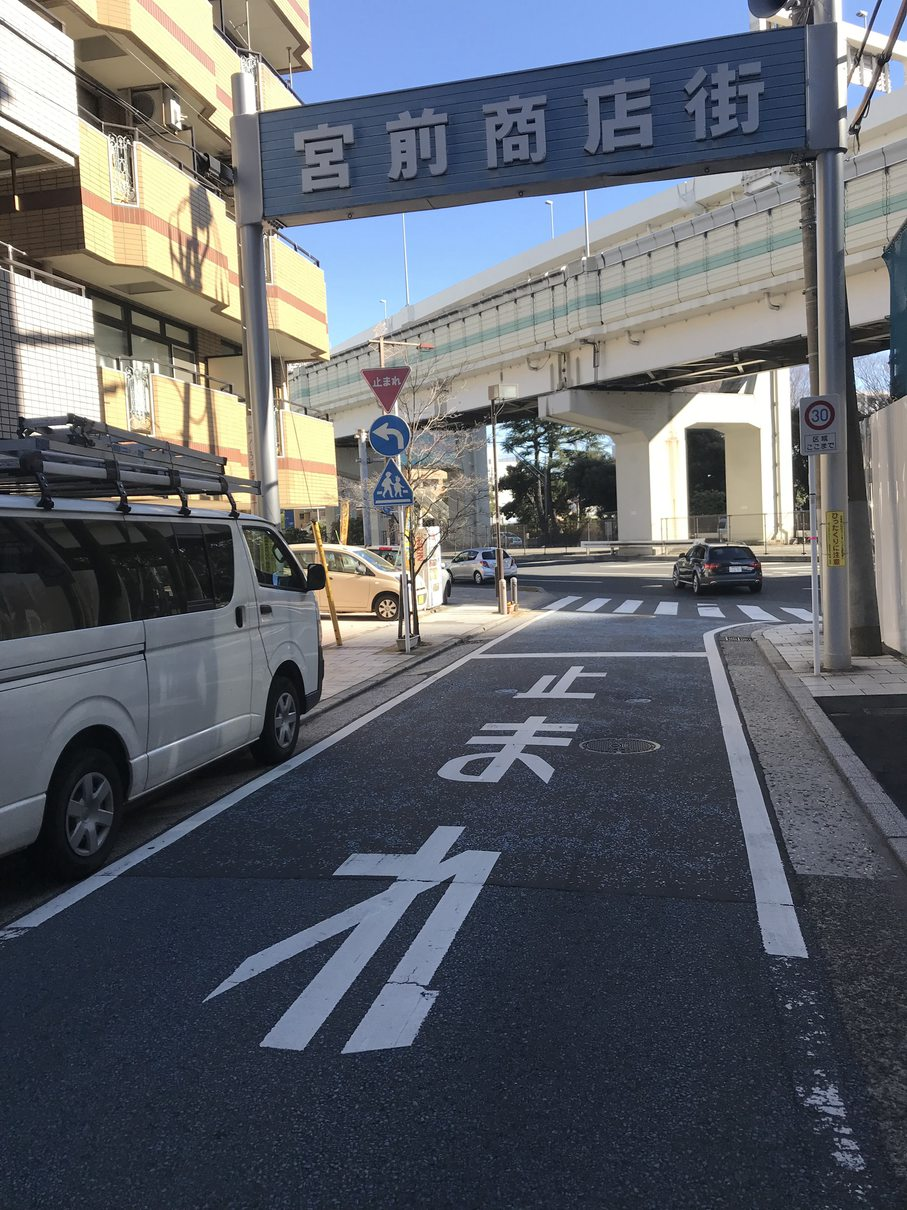stop_sign: (360, 365, 412, 413)
